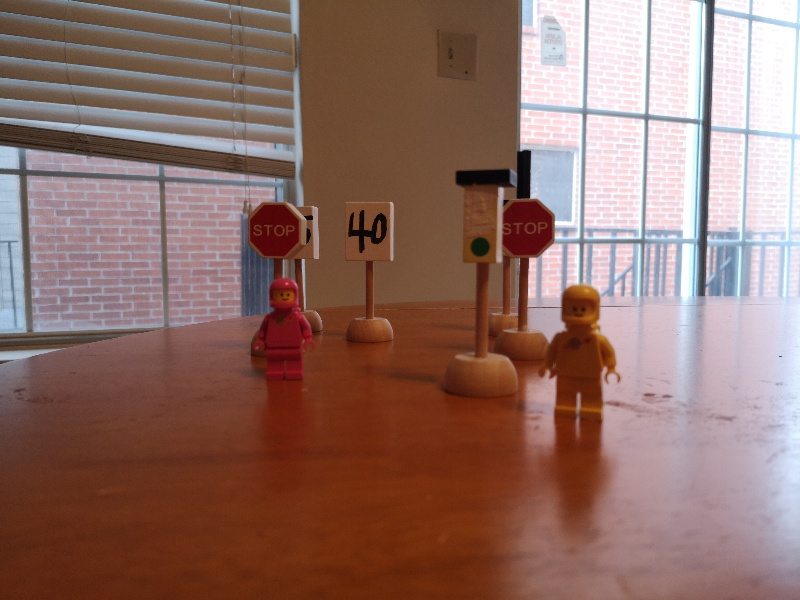Green Traffic Light: (451, 170, 518, 268)
Person: (541, 287, 623, 420), (248, 277, 319, 384)
Speed Limit 40: (342, 199, 394, 263)
Stop Sign: (248, 200, 308, 261), (503, 197, 557, 263)
